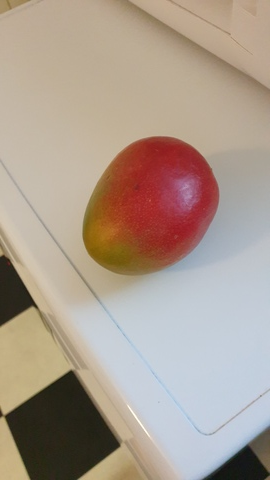Mango: (83, 137, 219, 276)
